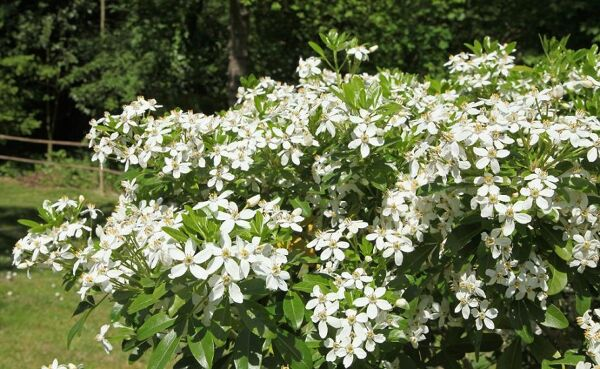flower: (200, 232, 246, 280), (167, 242, 213, 282), (205, 270, 249, 305), (435, 144, 474, 180), (493, 200, 533, 235), (406, 108, 451, 139), (228, 239, 260, 281), (254, 258, 291, 294), (354, 287, 393, 320), (215, 202, 257, 232), (348, 123, 385, 157), (476, 227, 513, 261), (438, 121, 473, 156), (334, 306, 371, 339), (311, 302, 343, 339), (518, 185, 560, 213), (353, 322, 389, 352), (473, 144, 510, 173), (557, 118, 592, 148), (524, 163, 560, 192), (474, 191, 513, 217), (123, 195, 156, 225), (142, 119, 176, 148), (408, 198, 442, 227), (364, 223, 399, 251), (480, 263, 516, 290), (336, 337, 368, 367), (305, 283, 337, 313), (192, 191, 236, 212), (318, 233, 351, 261), (78, 265, 105, 298), (323, 331, 350, 364), (315, 106, 344, 136), (92, 232, 120, 263), (568, 198, 600, 225), (384, 239, 417, 265), (348, 106, 385, 129), (207, 163, 235, 193), (233, 123, 268, 147), (472, 301, 499, 332), (69, 239, 92, 275), (460, 271, 488, 300), (226, 149, 261, 172), (568, 250, 600, 275), (450, 291, 479, 318), (270, 127, 305, 149), (473, 172, 508, 194), (337, 269, 375, 289), (461, 124, 494, 147), (379, 197, 410, 221), (162, 156, 194, 179), (4, 234, 32, 260), (402, 219, 432, 243), (63, 219, 95, 241), (578, 130, 600, 161), (89, 136, 113, 164), (452, 101, 484, 120), (281, 208, 306, 232), (334, 217, 371, 233), (206, 142, 230, 166), (277, 146, 305, 166), (116, 110, 139, 134), (119, 147, 139, 174), (572, 232, 600, 251), (27, 237, 50, 259), (222, 110, 246, 131), (344, 44, 373, 59), (47, 226, 67, 246), (467, 73, 493, 88), (441, 54, 465, 66)
